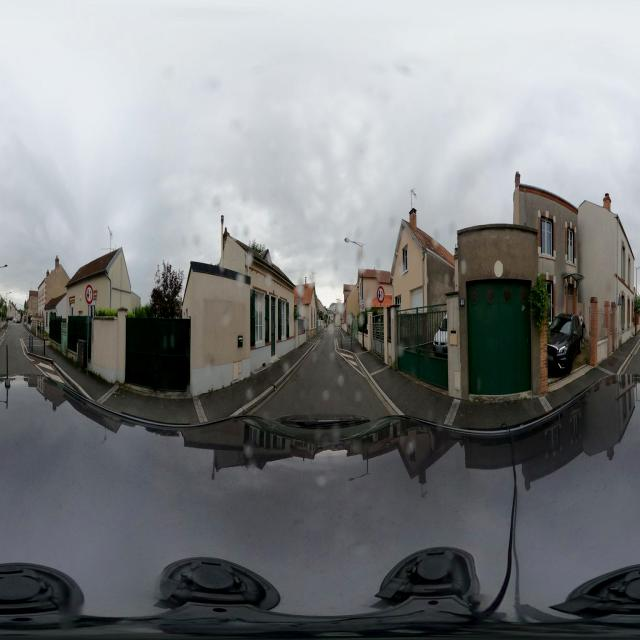car: (546, 312, 585, 374)
